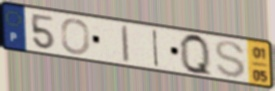5: (29, 13, 57, 51)
I: (120, 23, 131, 65), (152, 28, 161, 69)
O: (60, 17, 91, 56)
Q: (177, 32, 214, 80)
S: (213, 39, 247, 80)
